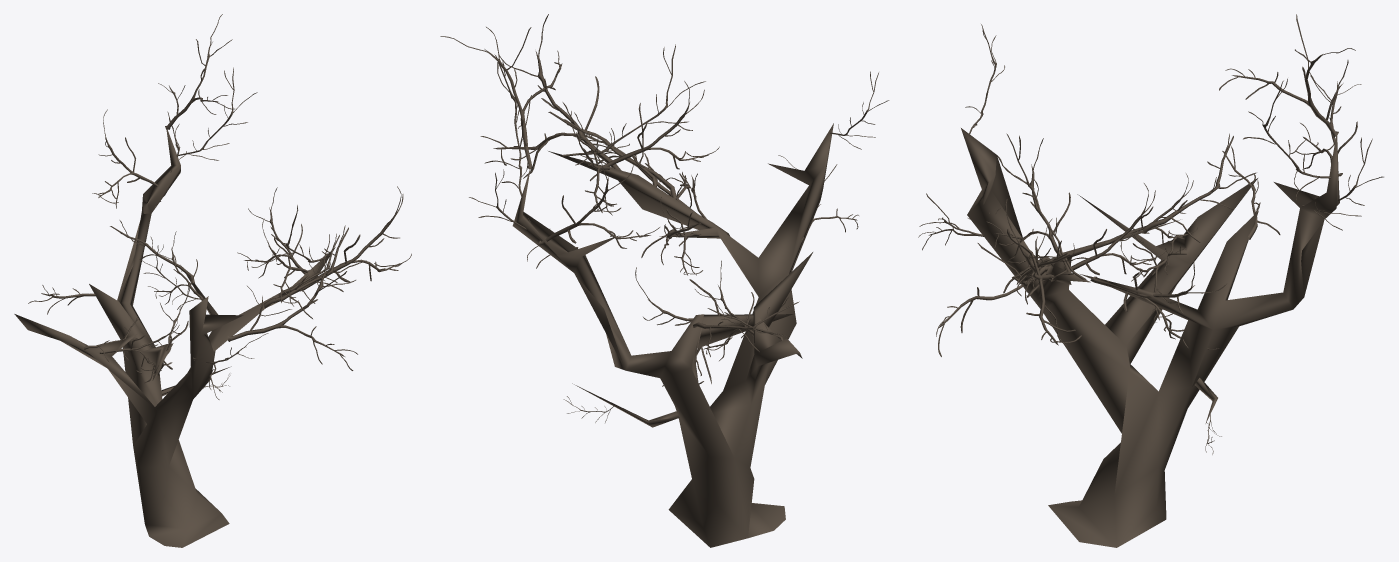
The model's file is island_tree_01_1k.obj.
3 renders of one model, left to right at view 1: azimuth 30°, elevation 25°; view 2: azimuth 150°, elevation 25°; view 3: azimuth 270°, elevation 25°, orthographic. The views are drawn at different scales.
Visible parts, largest first — view 1: island_tree_01, island_tree_01_branches_c, island_tree_01_branches_d, island_tree_01_branches_b, island_tree_01_branches_a; view 2: island_tree_01, island_tree_01_branches_c, island_tree_01_branches_d, island_tree_01_branches_b, island_tree_01_branches_a; view 3: island_tree_01, island_tree_01_branches_c, island_tree_01_branches_d, island_tree_01_branches_a, island_tree_01_branches_b.
Boxes of the visible parts, x1=… form: island_tree_01: x1=14, y1=129, x2=335, y2=547; island_tree_01_branches_c: x1=92, y1=109, x2=411, y2=383; island_tree_01_branches_d: x1=158, y1=14, x2=357, y2=399; island_tree_01_branches_b: x1=28, y1=220, x2=366, y2=361; island_tree_01_branches_a: x1=139, y1=67, x2=327, y2=392; island_tree_01: x1=512, y1=123, x2=833, y2=547; island_tree_01_branches_c: x1=480, y1=14, x2=776, y2=386; island_tree_01_branches_d: x1=440, y1=27, x2=858, y2=242; island_tree_01_branches_b: x1=548, y1=102, x2=799, y2=356; island_tree_01_branches_a: x1=469, y1=44, x2=889, y2=422; island_tree_01: x1=961, y1=128, x2=1339, y2=547; island_tree_01_branches_c: x1=986, y1=60, x2=1357, y2=349; island_tree_01_branches_d: x1=918, y1=14, x2=1361, y2=356; island_tree_01_branches_a: x1=965, y1=24, x2=1383, y2=454; island_tree_01_branches_b: x1=1003, y1=133, x2=1280, y2=304.
Size of the model in its own units: 3.6 by 4.45 by 3.33.
